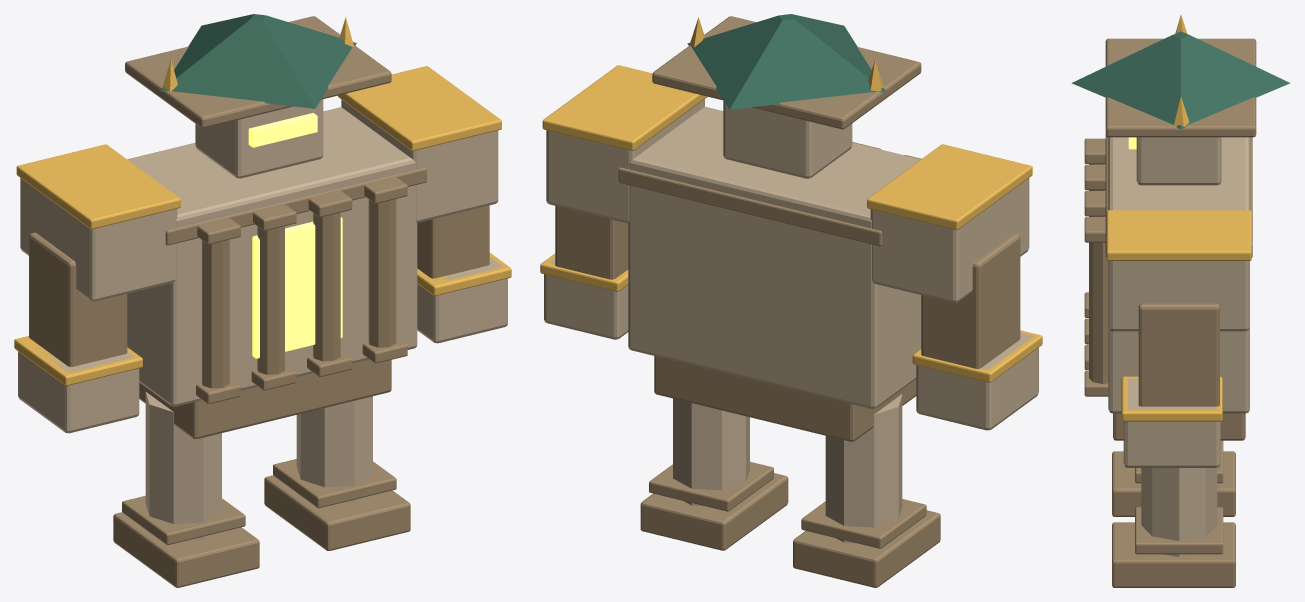
The model's file is SM_Boss_KurhausKoloss.glb.
3 views of the same model, side by side, from view 1: azimuth 30°, elevation 25°; view 2: azimuth 150°, elevation 25°; view 3: azimuth 270°, elevation 25° (orthographic). The views are drawn at different scales.
Parts seen in each view (by area): view 1: SM_Boss_KurhausKoloss; view 2: SM_Boss_KurhausKoloss; view 3: SM_Boss_KurhausKoloss.
Boxes of the visible parts, bbox=[...] form: SM_Boss_KurhausKoloss: bbox=[14, 14, 511, 587]; SM_Boss_KurhausKoloss: bbox=[540, 14, 1042, 587]; SM_Boss_KurhausKoloss: bbox=[1071, 15, 1290, 587].
Size of what is drawn, in the model's own units: 5.62 by 6.22 by 2.48.
